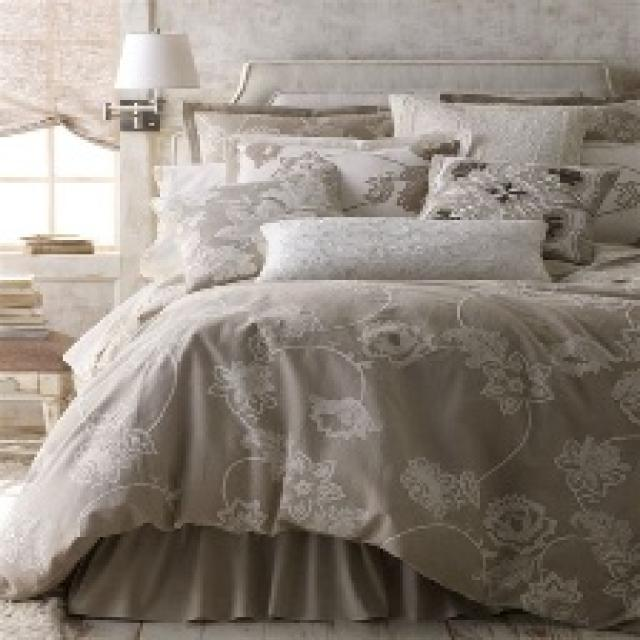Bed: (0, 57, 637, 634)
